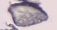microplastic: (7, 1, 49, 27), (1, 22, 18, 30)
